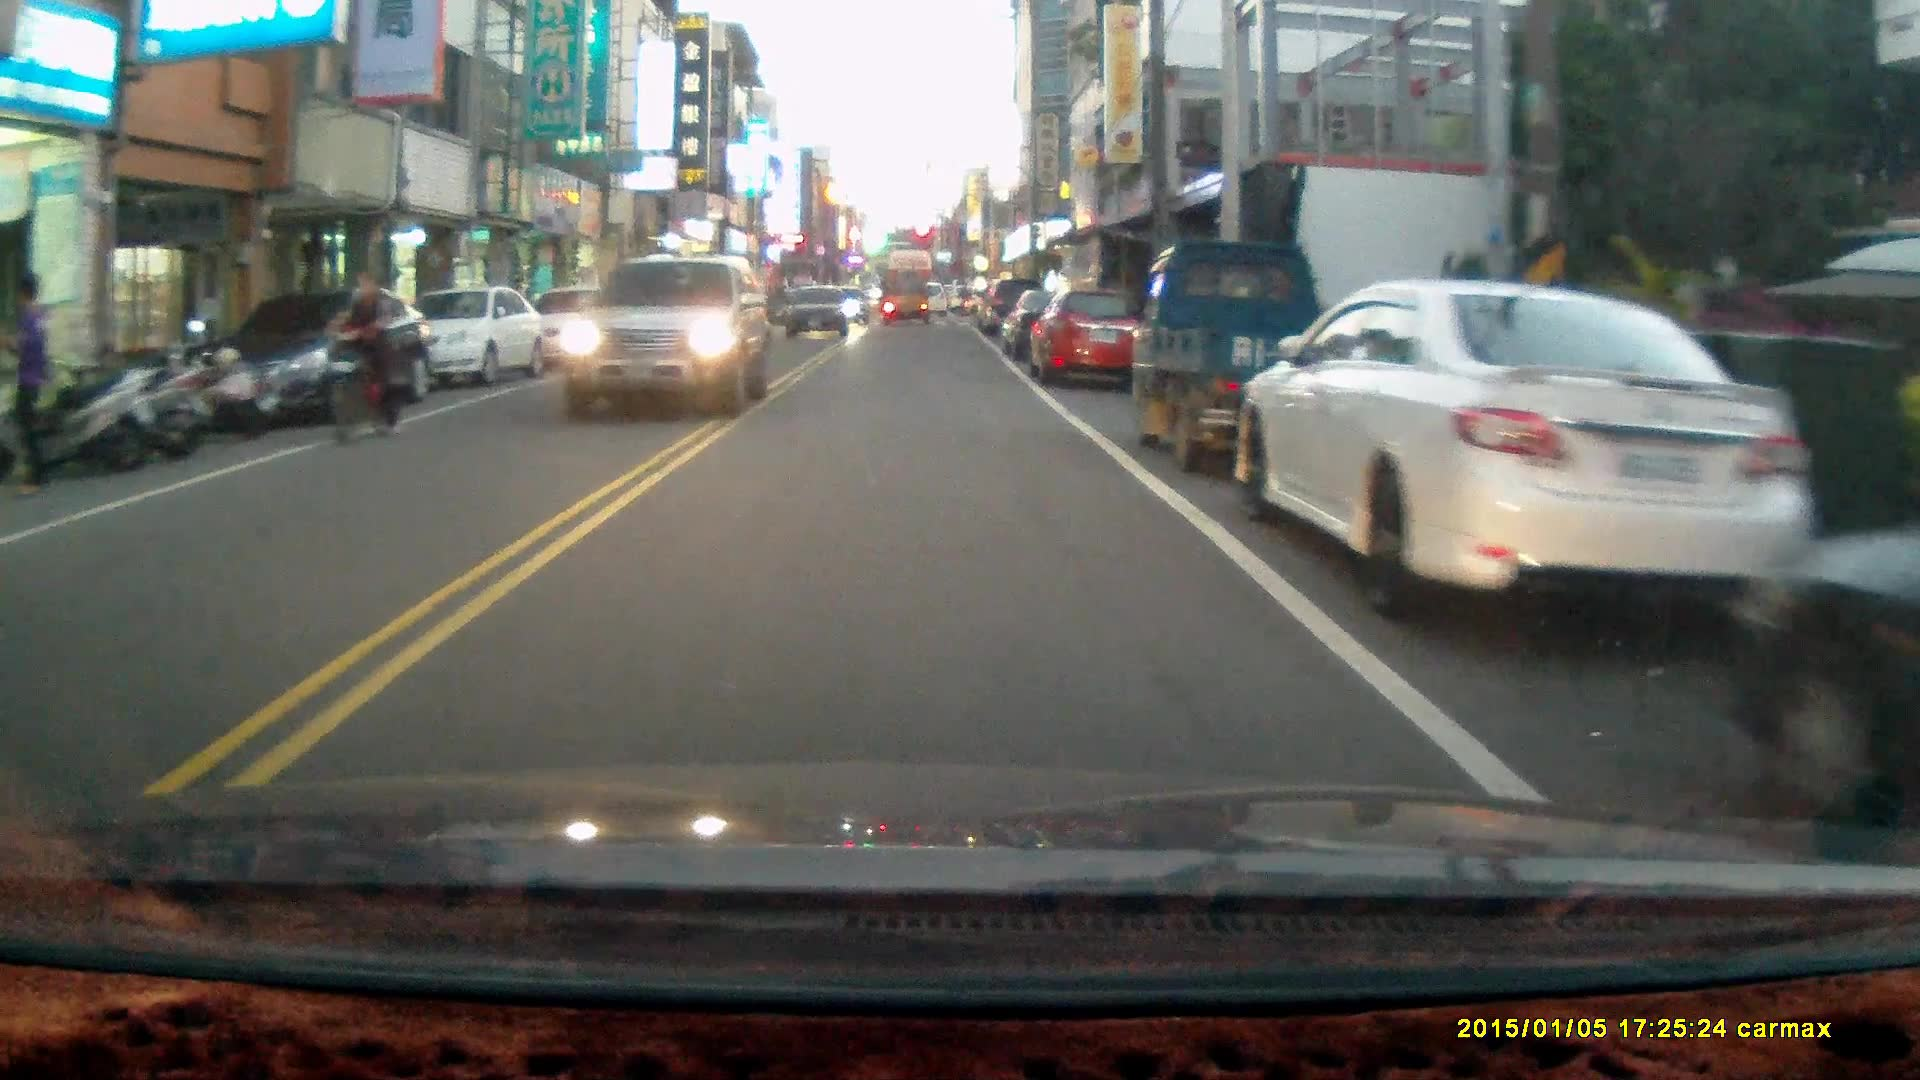pedestrian: (4, 268, 54, 502)
rider: (320, 268, 404, 446)
vehicle: (1231, 277, 1818, 636), (1719, 527, 1920, 849), (1135, 235, 1377, 478), (559, 253, 775, 424), (193, 285, 426, 425), (361, 286, 544, 394), (1034, 288, 1149, 391), (781, 286, 855, 341), (881, 273, 934, 331)
